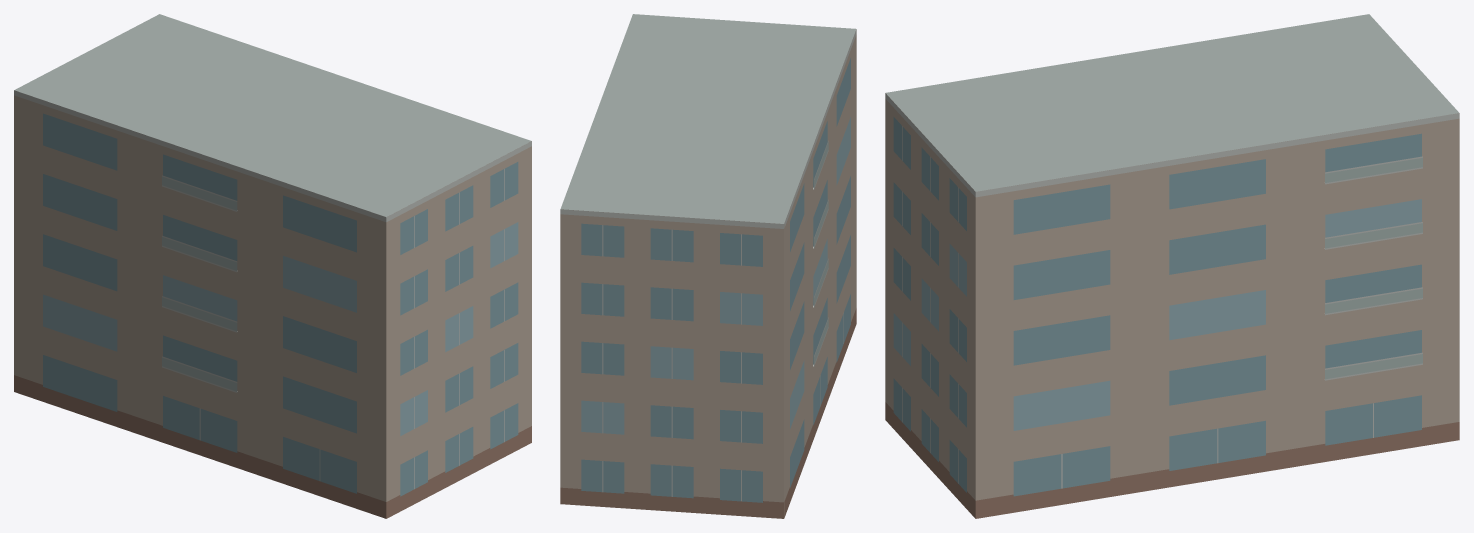
Rendered from survey-upis-33003603.glb.
The picture shows the model from 3 angles, left to right: view 1: azimuth 30°, elevation 25°; view 2: azimuth 150°, elevation 25°; view 3: azimuth 270°, elevation 25°; orthographic projection. The views are drawn at different scales.
Visible parts, largest first — view 1: survey-upis-33003603.tmp; view 2: survey-upis-33003603.tmp; view 3: survey-upis-33003603.tmp.
Part boxes in pixels (x1=…): survey-upis-33003603.tmp: x1=14, y1=14, x2=531, y2=518; survey-upis-33003603.tmp: x1=560, y1=14, x2=856, y2=518; survey-upis-33003603.tmp: x1=885, y1=14, x2=1459, y2=518.
Bounding box in the file's own units: 16.69 × 14.3 × 22.77.
